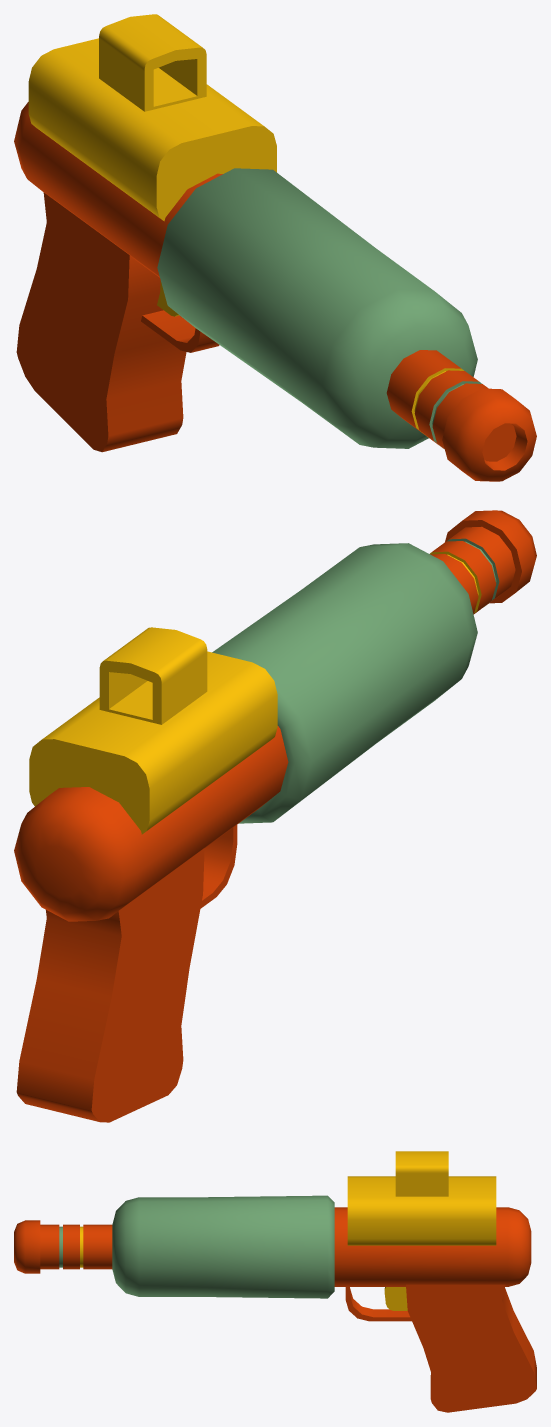
File: Water Gun.fbx
The picture shows the model from 3 angles, top to bottom: view 1: azimuth 30°, elevation 25°; view 2: azimuth 150°, elevation 25°; view 3: azimuth 270°, elevation 25°; orthographic projection. The views are drawn at different scales.
Parts seen in each view (by area): view 1: Water Gun; view 2: Water Gun; view 3: Water Gun.
Part boxes in pixels (bbox=[...]): Water Gun: bbox=[14, 14, 536, 481]; Water Gun: bbox=[14, 510, 536, 1122]; Water Gun: bbox=[14, 1151, 536, 1412].
Size of the model in its own units: 0.0667 by 0.1748 by 0.3375.
